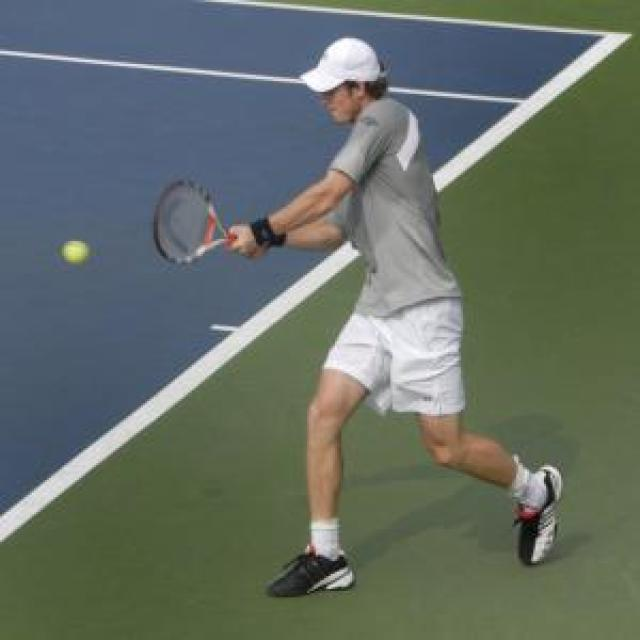ball: (60, 236, 90, 268)
